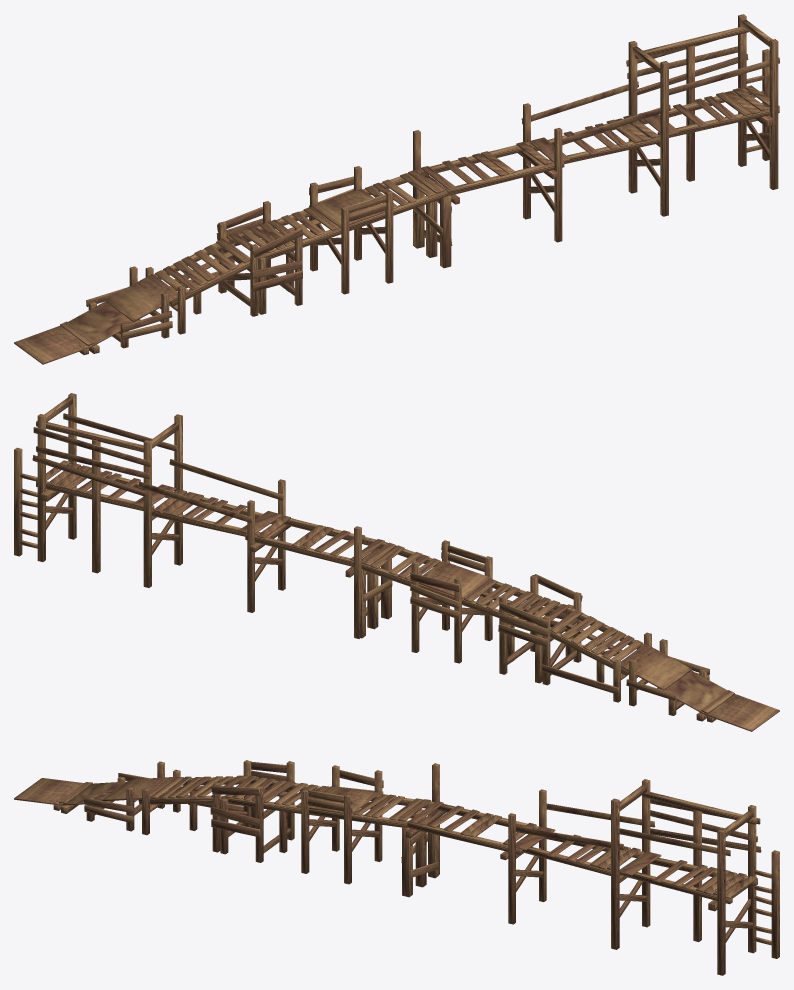
File: wooden_bridge.glb
The picture shows the model from 3 angles, top to bottom: view 1: azimuth 30°, elevation 25°; view 2: azimuth 150°, elevation 25°; view 3: azimuth 330°, elevation 25°; orthographic projection. The views are drawn at different scales.
Visible parts, largest first — view 1: Cube.028_21, Cube.004_14, Cube.121_119, Cube.022_15, Cube.103_103, Cube.104_104, Cube.021_70, Cube.086_86, Cube.123_140, Cube.125_120, Cube.093_93, Cube.090_90 (+11 smaller); view 2: Cube.028_21, Cube.004_14, Cube.022_15, Cube.021_70, Cube.104_104, Cube.125_120, Cube.123_140, Cube.103_103, Cube.143_143, Cube.087_87, Cube.122_117, Cube.092_92 (+13 smaller); view 3: Cube.103_103, Cube.121_119, Cube.004_14, Cube.125_120, Cube.104_104, Cube.143_143, Cube.123_140, Cube.086_86, Cube.028_21, Cube.093_93, Cube.117_139, Cube.021_70 (+28 smaller).
Boxes of the visible parts, x1,y1,x2,y2 form: Cube.028_21: [104, 274, 177, 322]; Cube.004_14: [14, 326, 92, 364]; Cube.121_119: [769, 39, 778, 189]; Cube.022_15: [68, 301, 140, 346]; Cube.103_103: [660, 61, 668, 216]; Cube.104_104: [628, 41, 637, 193]; Cube.021_70: [311, 188, 385, 228]; Cube.086_86: [554, 128, 562, 242]; Cube.123_140: [686, 45, 694, 181]; Cube.125_120: [738, 14, 746, 166]; Cube.093_93: [445, 161, 564, 195]; Cube.090_90: [440, 195, 451, 268]; Cube.028_21: [621, 643, 691, 690]; Cube.004_14: [704, 694, 779, 731]; Cube.022_15: [657, 670, 727, 713]; Cube.021_70: [419, 561, 490, 599]; Cube.104_104: [143, 439, 151, 587]; Cube.125_120: [37, 414, 45, 561]; Cube.123_140: [92, 439, 100, 573]; Cube.103_103: [174, 414, 182, 565]; Cube.143_143: [14, 447, 22, 556]; Cube.087_87: [247, 500, 254, 612]; Cube.122_117: [354, 526, 361, 638]; Cube.092_92: [245, 533, 353, 566]; Cube.103_103: [611, 798, 619, 949]; Cube.121_119: [717, 829, 725, 975]; Cube.004_14: [14, 778, 84, 805]; Cube.125_120: [748, 805, 756, 953]; Cube.104_104: [642, 779, 650, 927]; Cube.143_143: [771, 850, 779, 958]; Cube.123_140: [693, 809, 701, 941]; Cube.086_86: [508, 813, 515, 924]; Cube.028_21: [102, 776, 176, 801]; Cube.093_93: [407, 821, 522, 854]; Cube.117_139: [642, 791, 757, 824]; Cube.021_70: [309, 786, 379, 813].
Size of the model in its own units: 26.72 by 5.15 by 2.39.
1 material, 1 textured.
